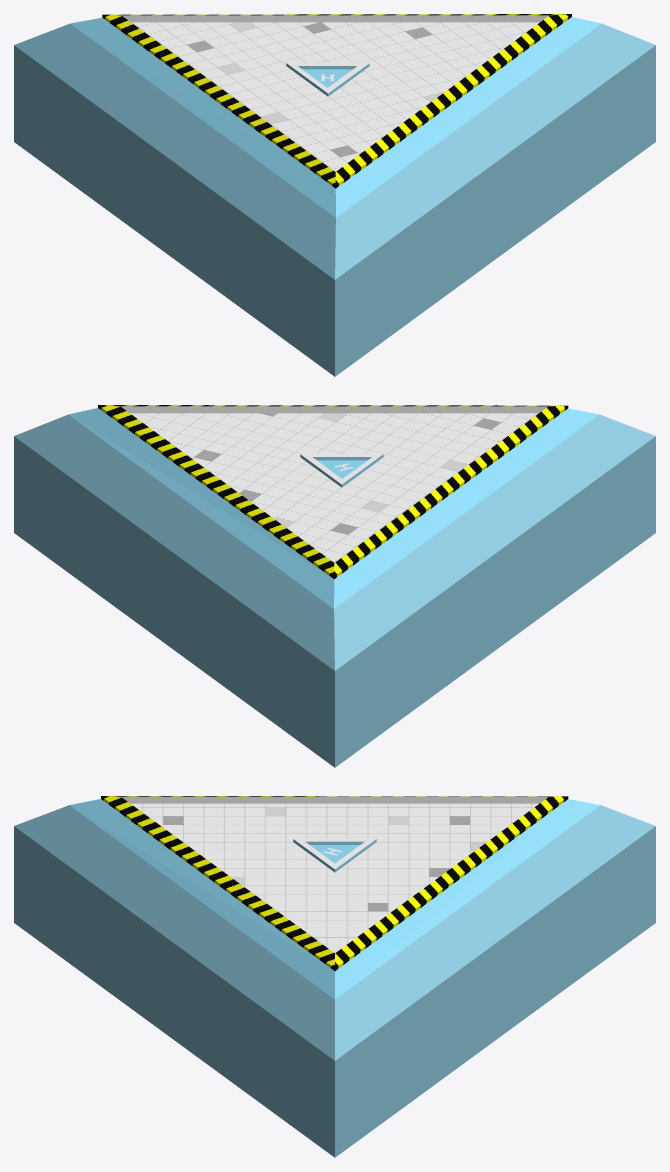
Rendered from building3.fbx.
The picture shows the model from 3 angles, top to bottom: view 1: azimuth 30°, elevation 25°; view 2: azimuth 150°, elevation 25°; view 3: azimuth 270°, elevation 25°; orthographic projection.
Parts seen in each view (by area): view 1: building, floor, airport_wall; view 2: building, floor, airport_wall; view 3: building, floor, airport_wall.
Boxes of the visible parts, x1,y1,x2,y2 form: building: [14, 14, 655, 376]; floor: [131, 22, 539, 171]; airport_wall: [286, 63, 369, 96]; building: [14, 405, 655, 767]; floor: [130, 413, 538, 562]; airport_wall: [300, 454, 383, 487]; building: [14, 796, 655, 1157]; floor: [131, 803, 538, 952]; airport_wall: [293, 839, 376, 872].
Bounding box in the file's own units: 45.2 × 13.69 × 52.2.
1 material, 1 textured.
